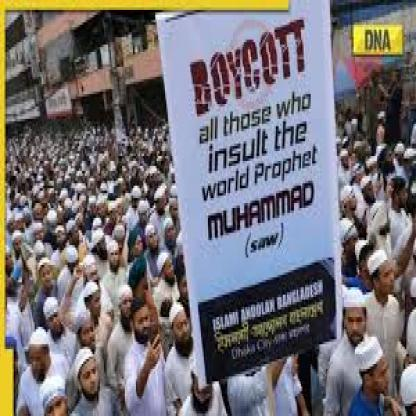BANNER: (155, 0, 344, 389)
